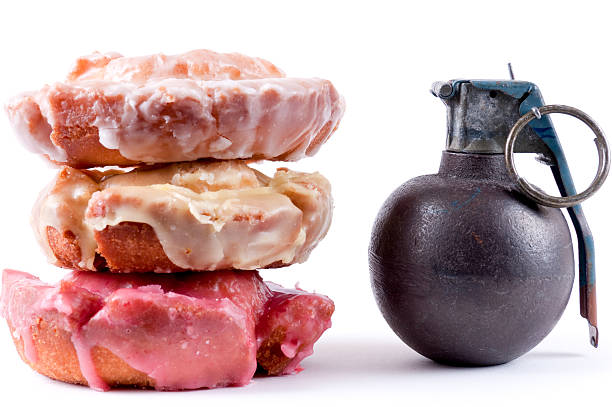e1: (371, 79, 601, 379)
